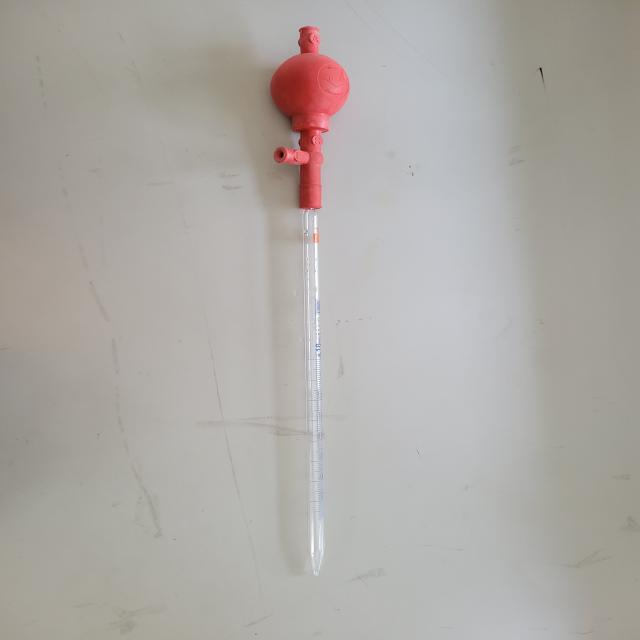Volumetric_Pipet: (238, 18, 400, 580)
